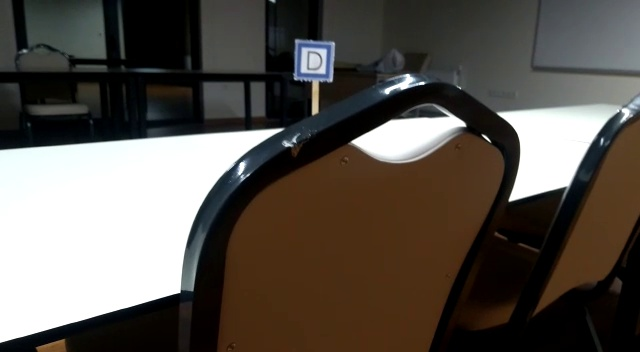durak: (295, 41, 335, 80)
